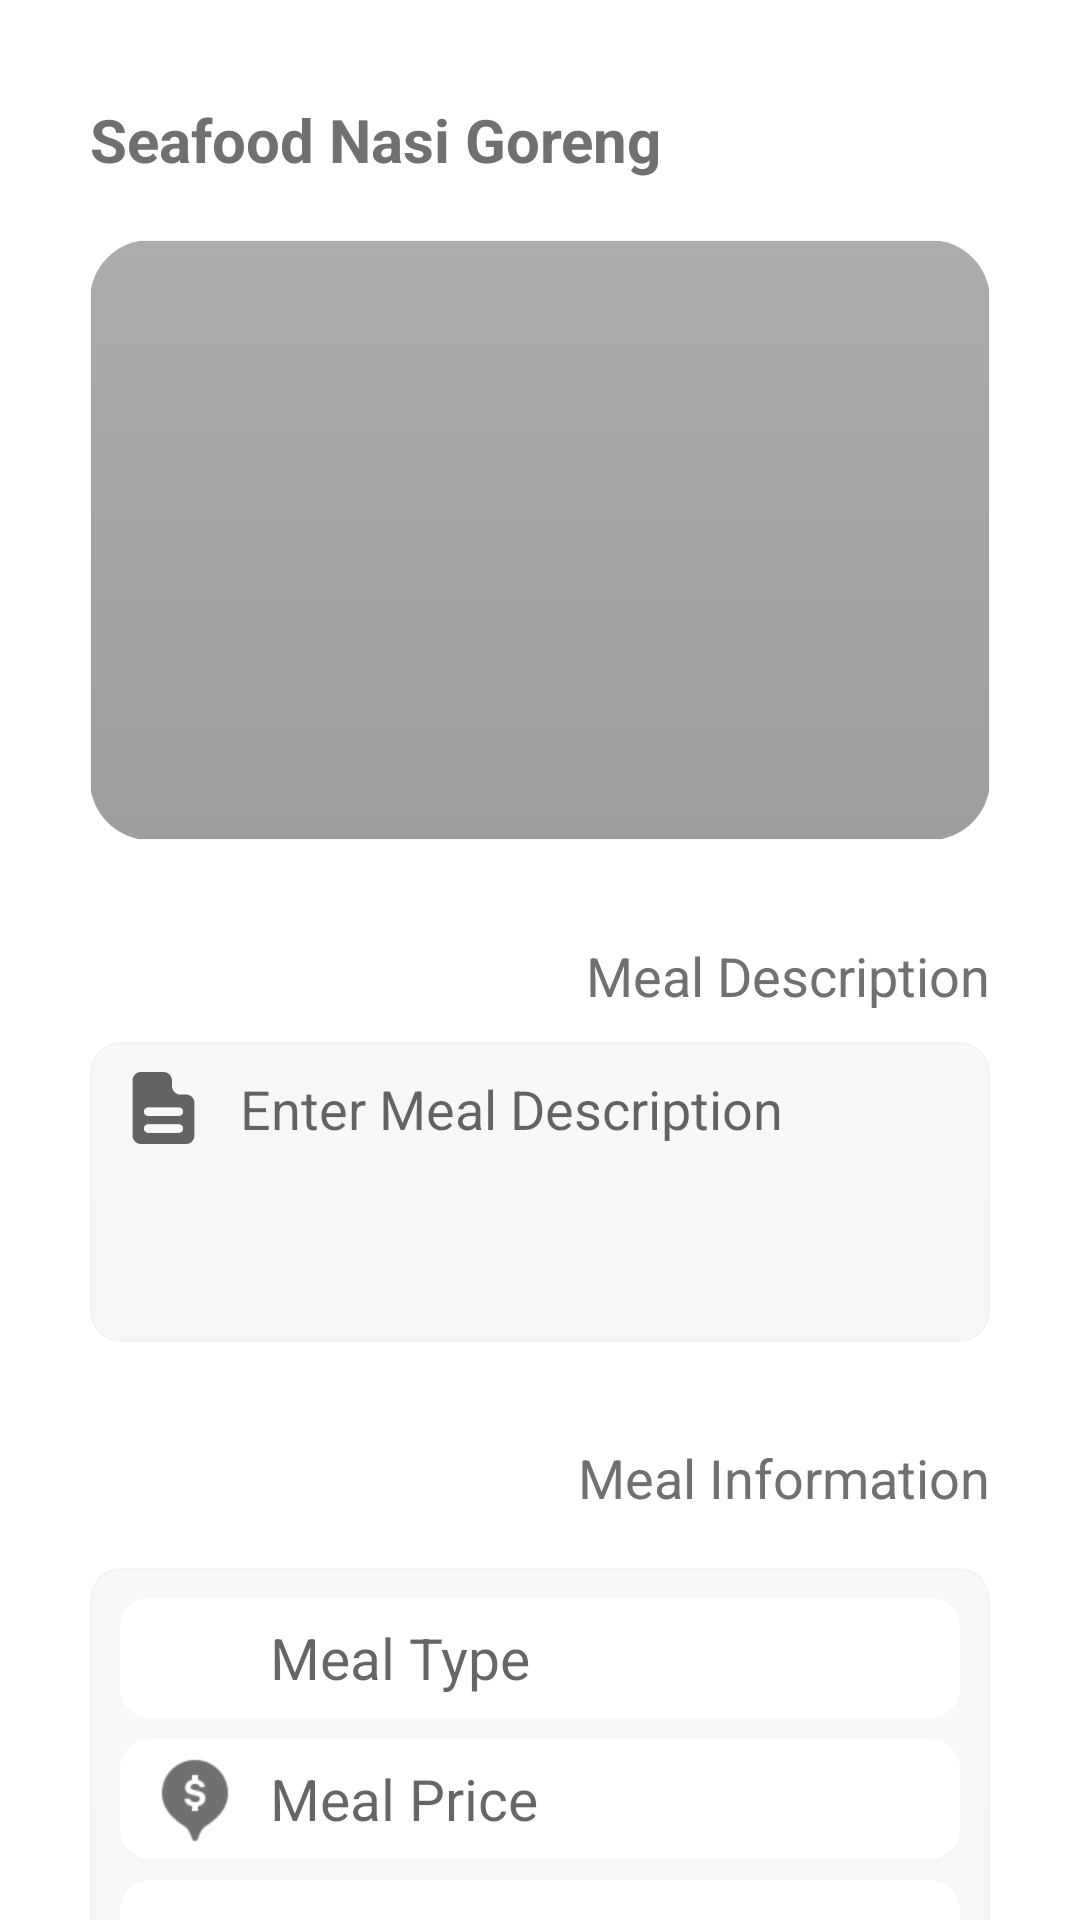

Icon bounding boxes for this 1080×1920 phone screenshot, format rect(x1, y1, x2, y2):
dollar: rect(162, 1760, 228, 1841)
